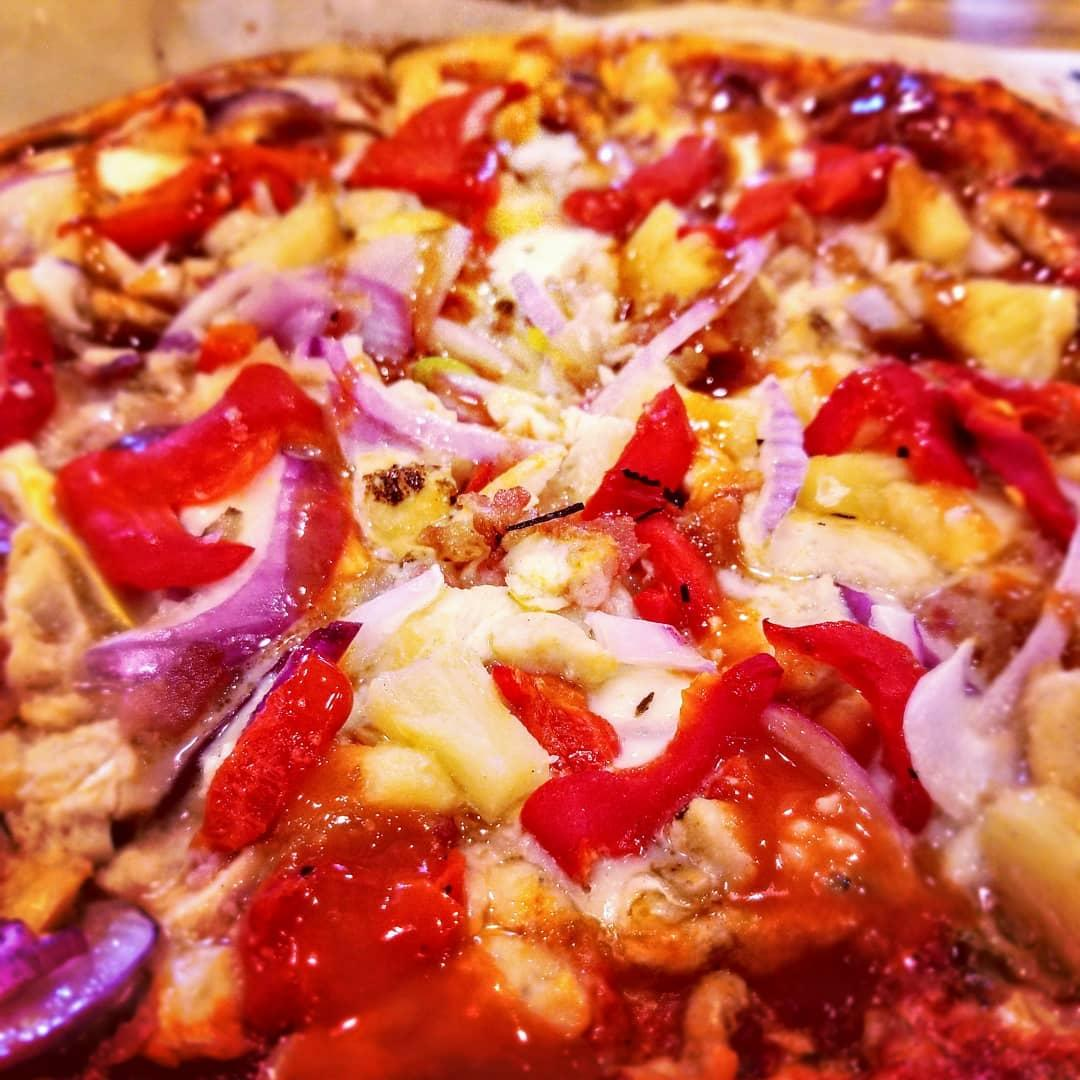Onion: (83, 446, 319, 665), (903, 618, 1079, 820), (3, 901, 169, 1077), (616, 236, 784, 384), (158, 261, 424, 352), (328, 356, 504, 454), (748, 386, 814, 555)
Pineapple: (363, 658, 549, 820), (813, 456, 989, 572), (973, 801, 1080, 984), (946, 271, 1080, 390), (613, 228, 729, 319), (388, 38, 525, 114), (698, 401, 761, 497), (358, 458, 447, 525), (233, 208, 342, 257), (351, 191, 439, 244), (498, 173, 555, 231)
Pizza: (0, 31, 1080, 1080)
Tomatoes: (508, 661, 797, 880), (51, 366, 319, 584), (263, 928, 604, 1080), (236, 841, 475, 1024), (761, 614, 929, 752), (213, 663, 350, 824), (345, 82, 507, 211), (808, 356, 964, 487), (473, 661, 620, 765), (961, 391, 1080, 515), (111, 143, 250, 247), (568, 136, 724, 226), (606, 388, 704, 517), (743, 146, 901, 221), (621, 518, 726, 625), (8, 291, 59, 462), (233, 136, 345, 201)
